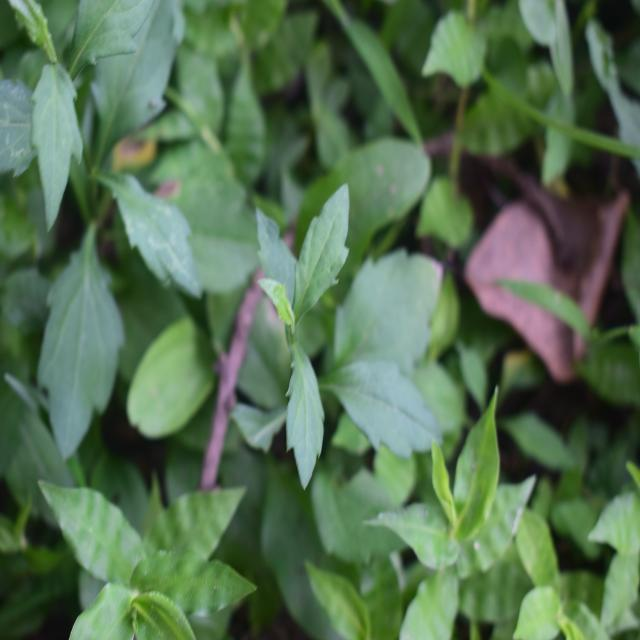Indian aster: (5, 0, 192, 410), (241, 193, 442, 473)
